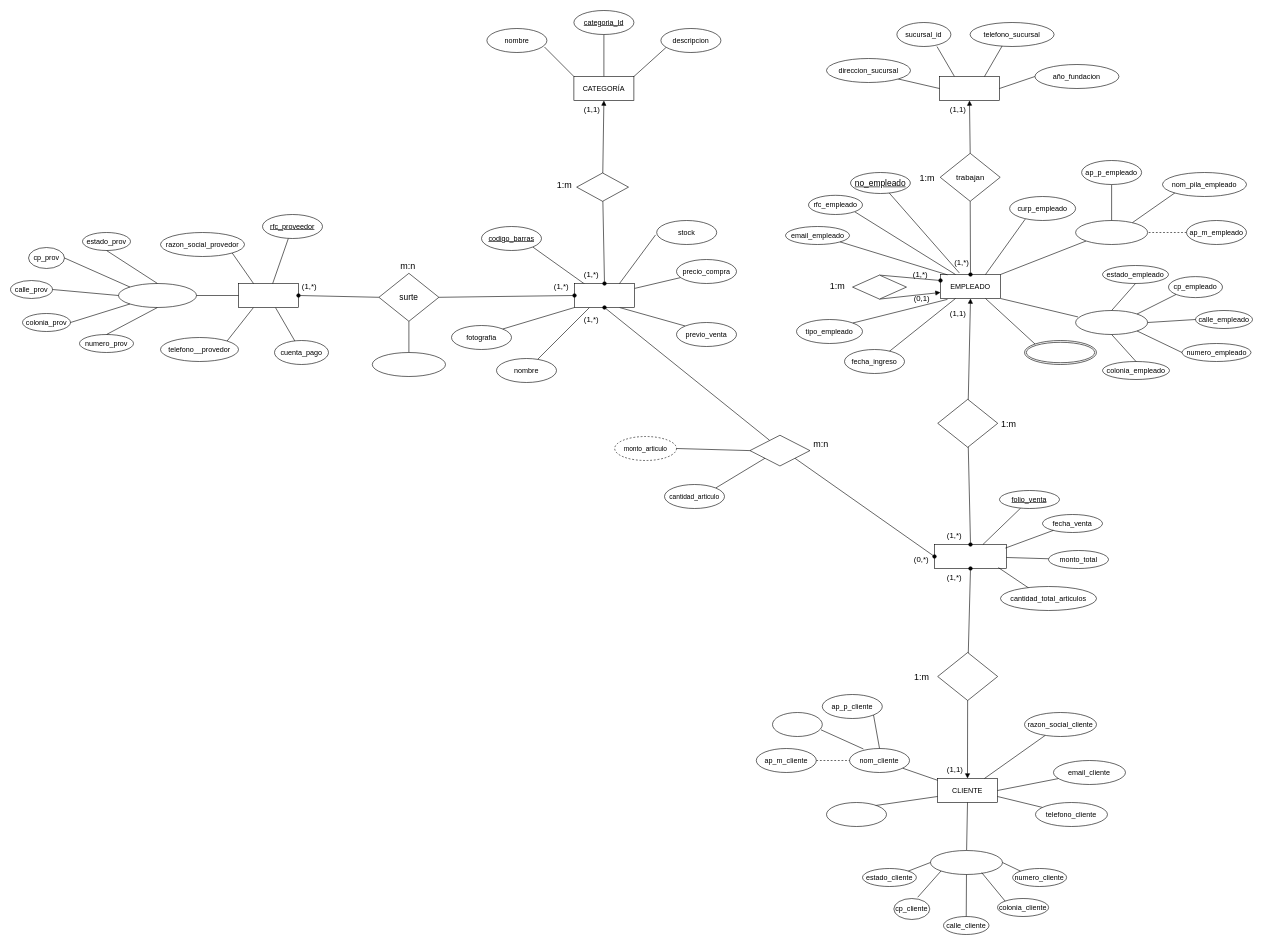
Some shapes in this 1263 by 945 pixel diagram are drawn without their labels. Here are the shapes that lost their labels. From the top down, the box of each, then its label:
(939, 76, 999, 100): SUCURSAL
(576, 172, 628, 201): pertenece
(1075, 220, 1148, 244): nombre_empleado
(118, 283, 196, 308): dirección_provedor
(238, 283, 298, 308): PROVEEDOR
(574, 283, 634, 308): ARTÍCULO
(852, 274, 906, 299): supervisa
(1075, 310, 1148, 334): direccion_empleado
(372, 352, 446, 376): fecha_inicio_surtido
(1024, 340, 1096, 364): telefono_empleado
(937, 399, 998, 447): cobra
(749, 435, 810, 466): presenta
(934, 544, 1006, 568): VENTA FACTURA
(937, 652, 998, 700): concreta
(772, 712, 822, 736): nom_pila
(826, 802, 886, 826): rfc_cliente
(930, 850, 1002, 874): direccion_cliente
